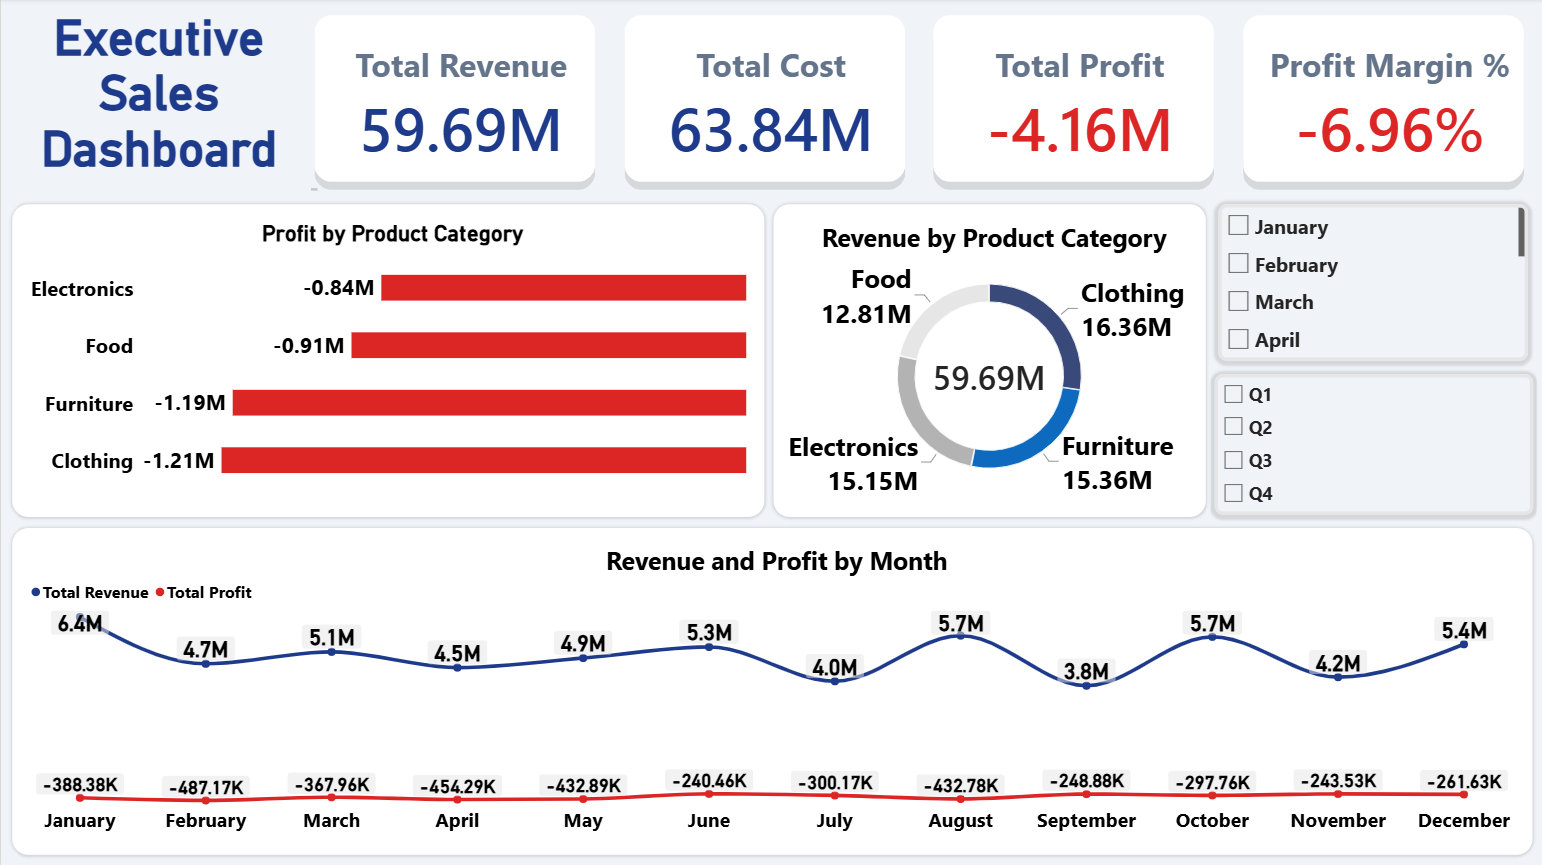

This screenshot's page, from the dashboard's own definition file:
{"tool":"powerbi","page":{"name":"Executive Summary","canvas":[1920,1080],"ordinal":0},"visuals":[{"type":"textbox","title":"Executive Sales Dashboard","box":[0,14,393.3,225.4],"z":0},{"type":"cardVisual","fields":{"Data":["Measures (2).Total Revenue"]},"box":[379.5,10.9,370.4,228.8],"z":1000},{"type":"cardVisual","fields":{"Data":["Measures (2).Total Cost"]},"box":[764.4,10.9,370.4,228.8],"z":2000},{"type":"cardVisual","fields":{"Data":["Measures (2).Total Profit"]},"box":[1149.4,10.9,370.4,228.8],"z":3000},{"type":"cardVisual","fields":{"Data":["Measures (2).Profit Margin %"]},"box":[1534.3,10.9,370.4,228.8],"z":4000},{"type":"clusteredBarChart","title":"Profit by Product Category","fields":{"Category":["VW_Cleaned_Sales.Product_Category"],"Y":["Measures (2).Total Profit"]},"box":[14.5,256,935.1,388.6],"z":5000},{"type":"lineChart","title":"Revenue and Profit by Month","fields":{"Category":["DateTable.Month Name"],"Y":["Measures (2).Total Revenue","Measures (2).Total Profit"]},"box":[14.5,659.1,1890.2,406.7],"z":6000},{"type":"donutChart","title":"Revenue by Product Category","fields":{"Category":["VW_Cleaned_Sales.Product_Category"],"Y":["Measures (2).Total Revenue"]},"box":[960.5,256,537.5,388.6],"z":7000},{"type":"slicer","fields":{"Values":["VW_Cleaned_Sales.Month Name"]},"box":[1514.3,256,384.9,194.3],"z":8000},{"type":"slicer","fields":{"Values":["DateTable.Quarter"]},"box":[1508.9,467.6,395.8,174.3],"z":9000}]}

Visuals, with their boxes in screenshot pixels (x1, y1, x2, y2), scaled from the page's 1920x1080 canvas onto the 1542x865 screenshot:
"Executive Sales Dashboard" textbox: (left=0, top=11, right=316, bottom=192)
cardVisual - Measures (2).Total Revenue: (left=305, top=9, right=602, bottom=192)
cardVisual - Measures (2).Total Cost: (left=614, top=9, right=911, bottom=192)
cardVisual - Measures (2).Total Profit: (left=923, top=9, right=1221, bottom=192)
cardVisual - Measures (2).Profit Margin %: (left=1232, top=9, right=1530, bottom=192)
"Profit by Product Category" clusteredBarChart: (left=12, top=205, right=763, bottom=516)
"Revenue and Profit by Month" lineChart: (left=12, top=528, right=1530, bottom=854)
"Revenue by Product Category" donutChart: (left=771, top=205, right=1203, bottom=516)
slicer - VW_Cleaned_Sales.Month Name: (left=1216, top=205, right=1525, bottom=361)
slicer - DateTable.Quarter: (left=1212, top=375, right=1530, bottom=514)
